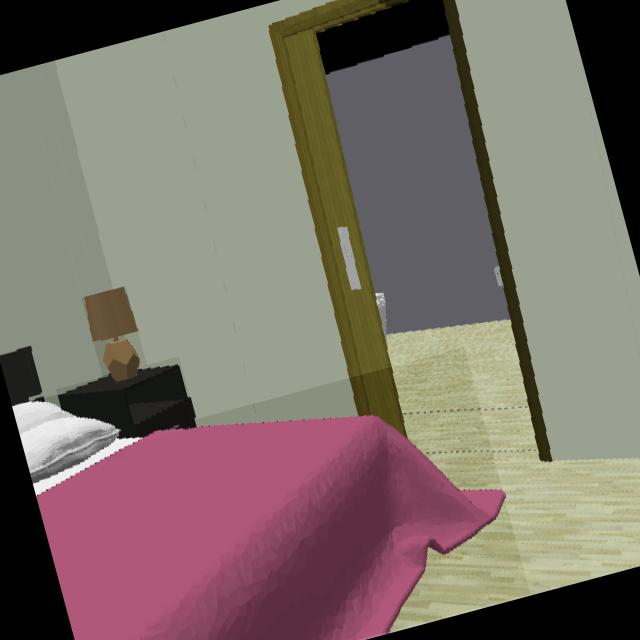bed: (33, 416, 503, 640)
lamp: (84, 289, 140, 381)
nighttable: (58, 364, 196, 437)
pillow: (12, 403, 118, 481)
